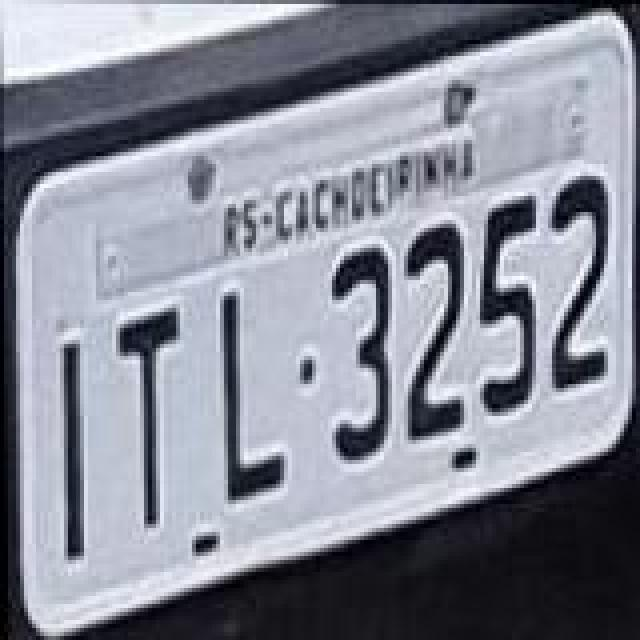1: (56, 338, 84, 566)
2: (544, 172, 616, 396), (402, 218, 470, 442)
3: (326, 246, 394, 462)
5: (474, 194, 542, 418)
L: (216, 290, 288, 514)
T: (114, 298, 182, 534)
